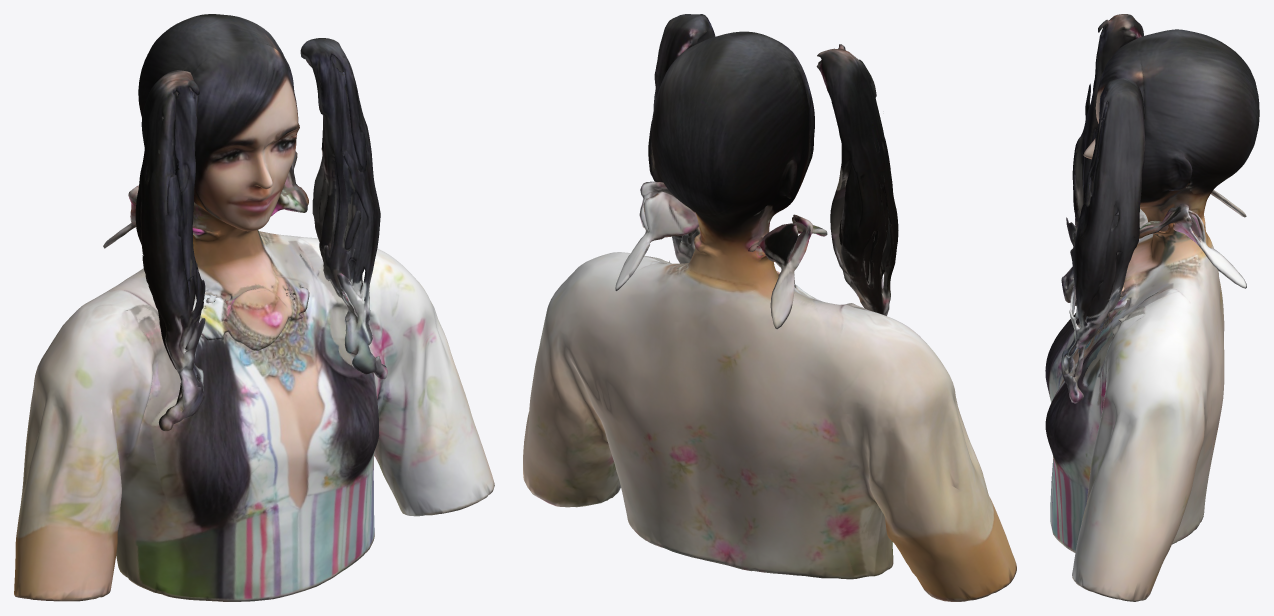
The model's file is Smiling_in_Pigtails_0822022630.glb.
The picture shows the model from 3 angles, left to right: view 1: azimuth 30°, elevation 25°; view 2: azimuth 150°, elevation 25°; view 3: azimuth 270°, elevation 25°; orthographic projection. The views are drawn at different scales.
Bounding box in the file's own units: 1.88 × 2 × 0.7988.
Materials: 1 (1 with a texture image).
